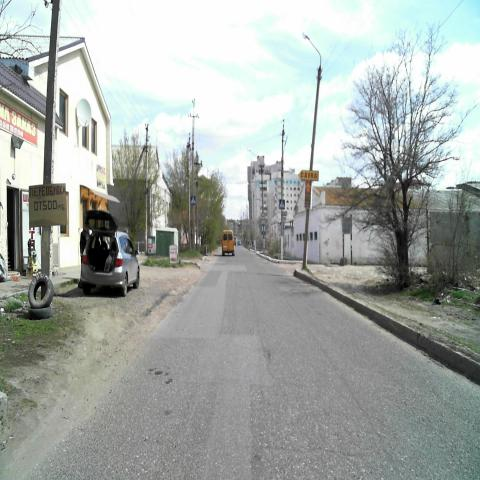5_19_1: (279, 198, 285, 208), (190, 195, 196, 204)
